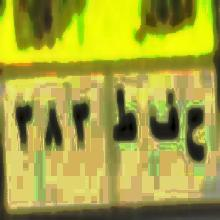3: (12, 98, 34, 157), (72, 97, 92, 152)
7aa: (184, 104, 206, 172)
8: (41, 102, 62, 161)
Taa: (111, 90, 136, 154)
faa: (148, 90, 180, 152)
